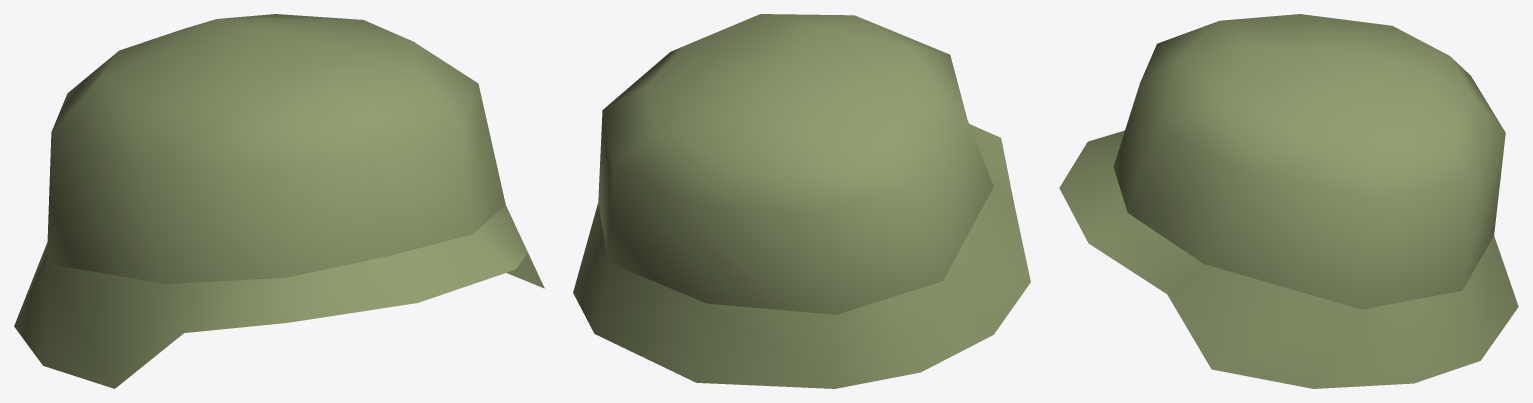
Rendered from Player_Helmet_Type_2.fbx.
3 views of the same model, side by side, from view 1: azimuth 30°, elevation 25°; view 2: azimuth 150°, elevation 25°; view 3: azimuth 270°, elevation 25° (orthographic). The views are drawn at different scales.
Visible parts, largest first — view 1: Player_Helmet_Type_2; view 2: Player_Helmet_Type_2; view 3: Player_Helmet_Type_2.
Boxes of the visible parts, <box> form: Player_Helmet_Type_2: <box>14,14,544,388</box>; Player_Helmet_Type_2: <box>573,14,1030,388</box>; Player_Helmet_Type_2: <box>1059,14,1518,388</box>.
Size of the model in its own units: 41.71 by 26 by 40.82.
